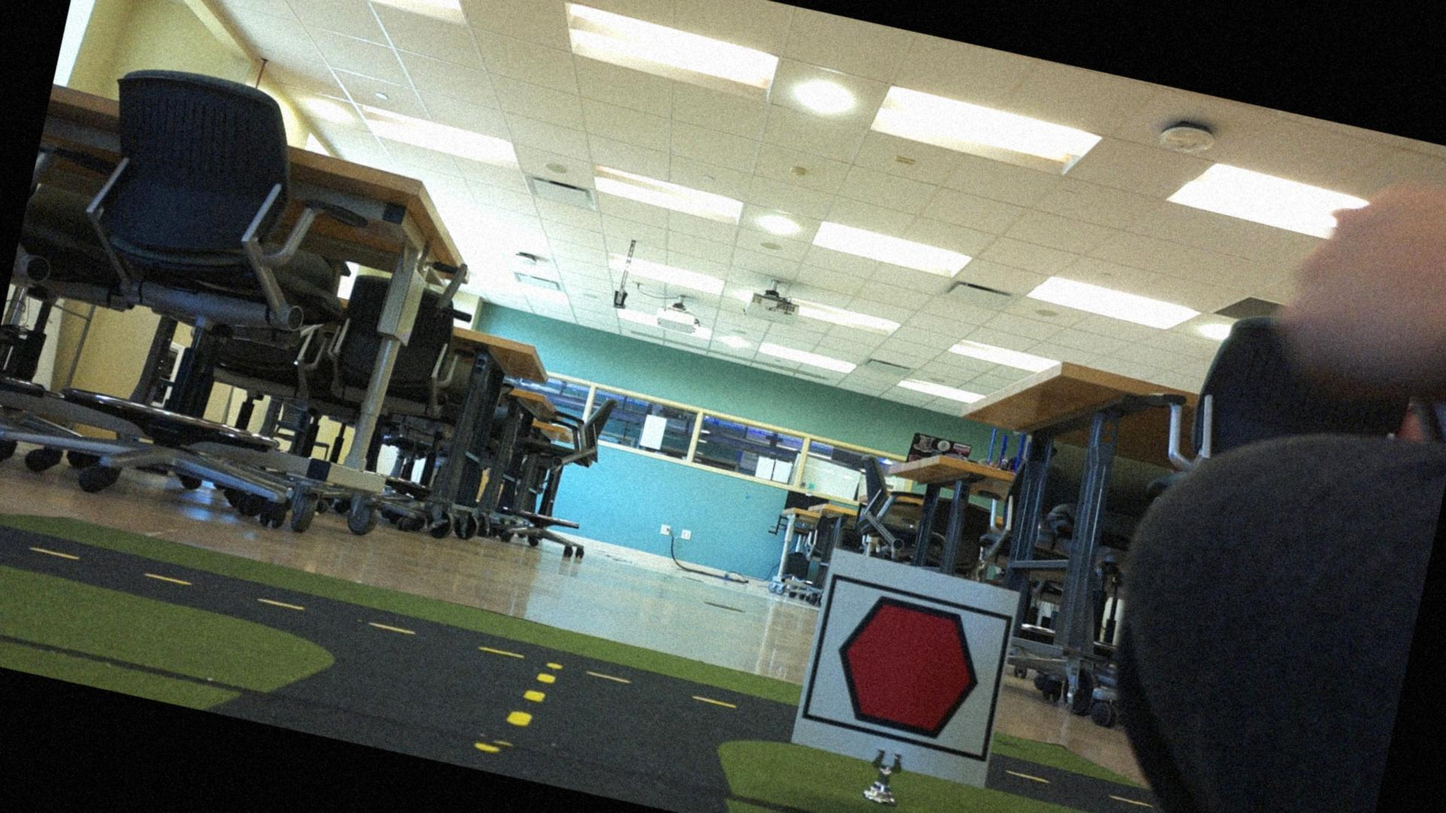stop: (810, 579, 1003, 756)
yellowline: (474, 660, 557, 766)
